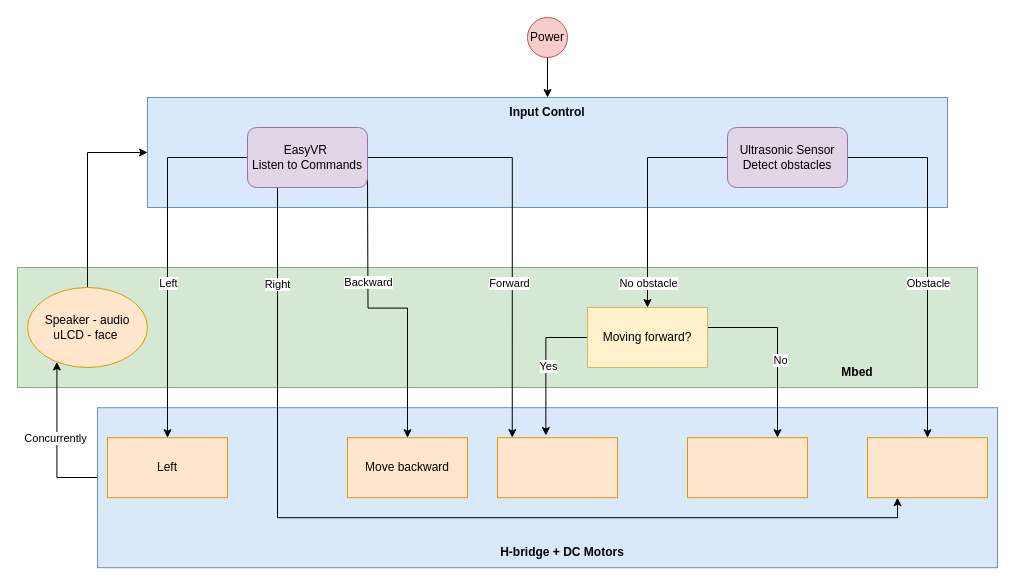
Some shapes in this 1015 by 586 pixel diagram are drawn without their labels. Each missing label, with the centre of its shape:
Move forward: [557,467]
Stay idle: [747,467]
Turn right: [927,467]
